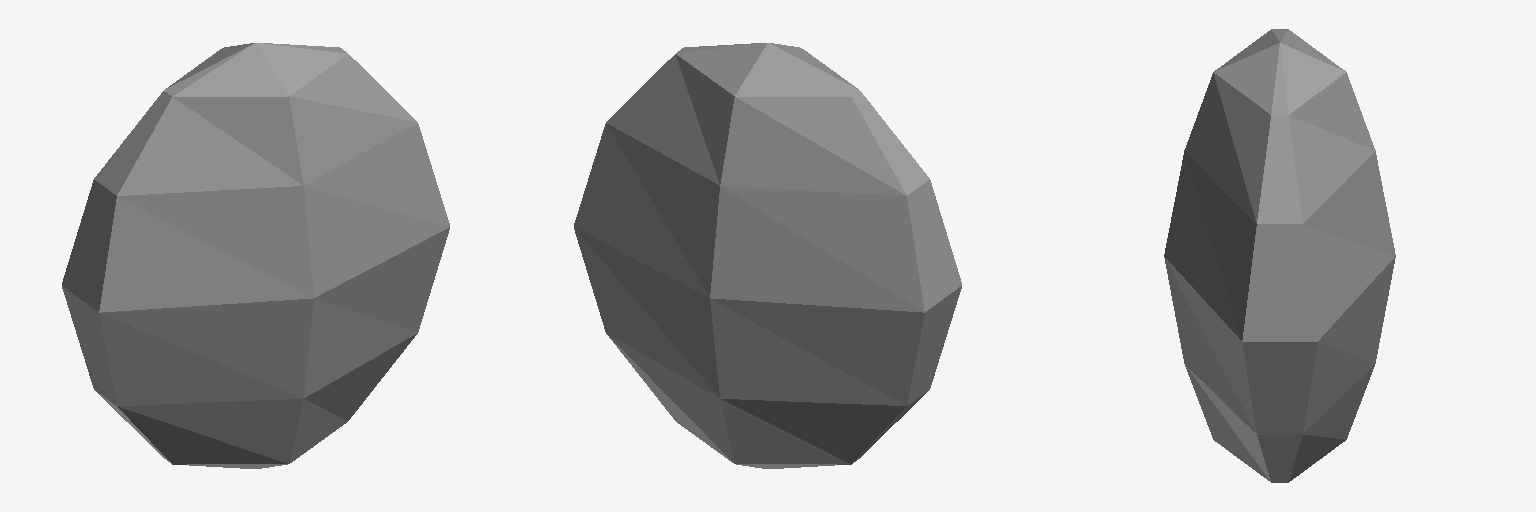
File: eye.obj
3 views of the same model, side by side, from view 1: azimuth 30°, elevation 25°; view 2: azimuth 150°, elevation 25°; view 3: azimuth 270°, elevation 25° (orthographic).
Visible parts, largest first — view 1: Cube_Cube.002; view 2: Cube_Cube.002; view 3: Cube_Cube.002.
Boxes of the visible parts, x1,y1,x2,y2 form: Cube_Cube.002: [62, 43, 449, 468]; Cube_Cube.002: [574, 43, 961, 468]; Cube_Cube.002: [1164, 29, 1395, 482].
Bounding box in the file's own units: 0.7 × 0.8125 × 0.4.